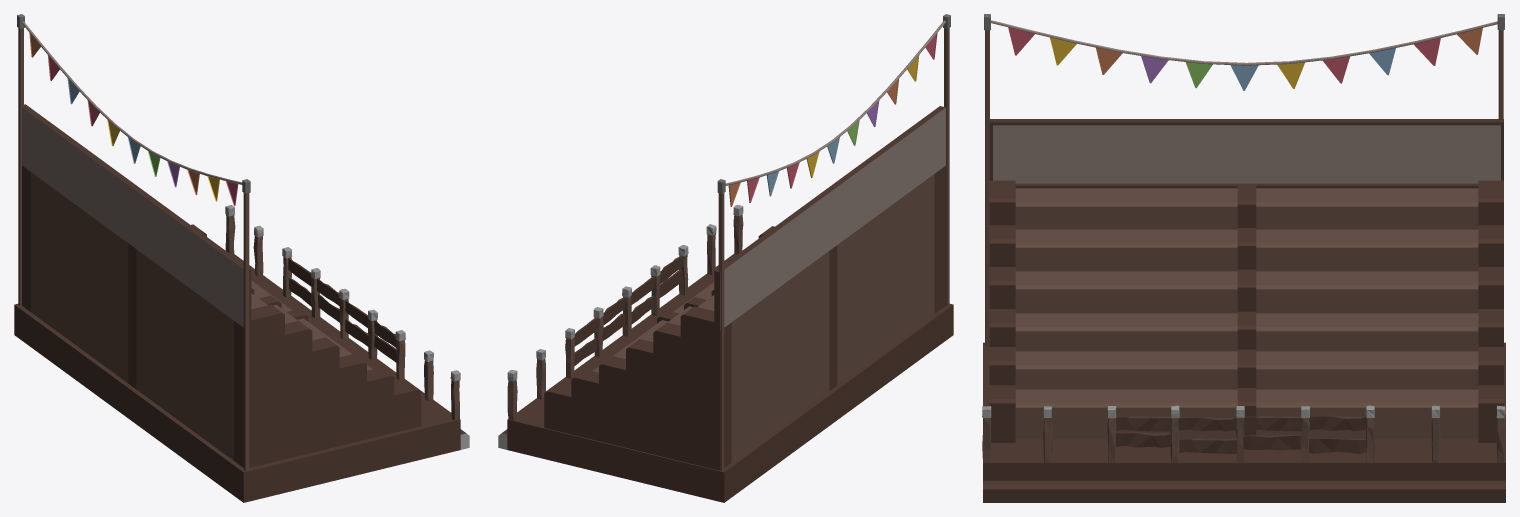
The model's file is tribune.fbx.
3 renders of one model, left to right at view 1: azimuth 30°, elevation 25°; view 2: azimuth 150°, elevation 25°; view 3: azimuth 270°, elevation 25°, orthographic. The views are drawn at different scales.
Parts seen in each view (by area): view 1: Tribune, Guirlande; view 2: Tribune, Guirlande; view 3: Tribune, Guirlande.
Boxes of the visible parts, box(x1,y1,x2,y2) form: Tribune: box(14, 14, 469, 502); Guirlande: box(22, 21, 242, 206); Tribune: box(498, 14, 953, 502); Guirlande: box(725, 20, 945, 206); Tribune: box(982, 14, 1505, 502); Guirlande: box(991, 20, 1497, 90).
Bounding box in the file's own units: 227 × 307 × 400.
